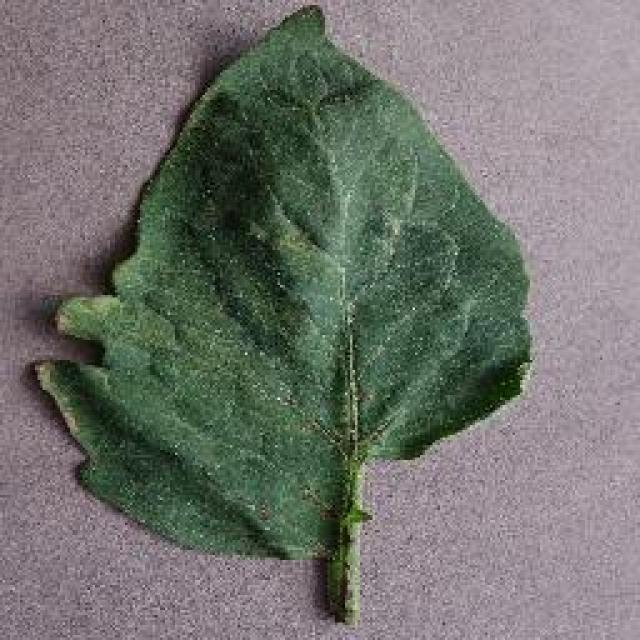Tomato Septoria spot leaf: (32, 6, 538, 562)
